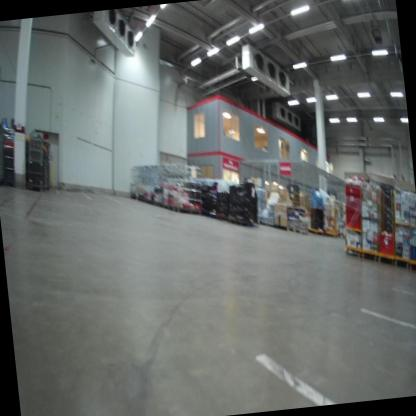pallet: (284, 224, 309, 237)
